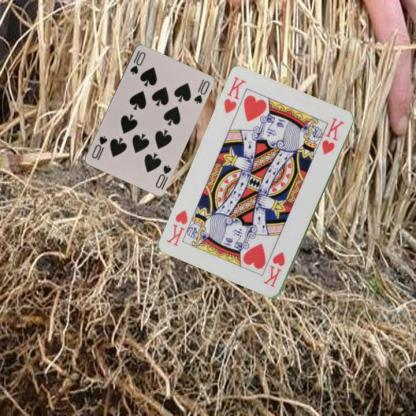10s: (127, 47, 147, 75), (152, 162, 172, 189)
Kh: (222, 74, 248, 116), (260, 249, 286, 289)
